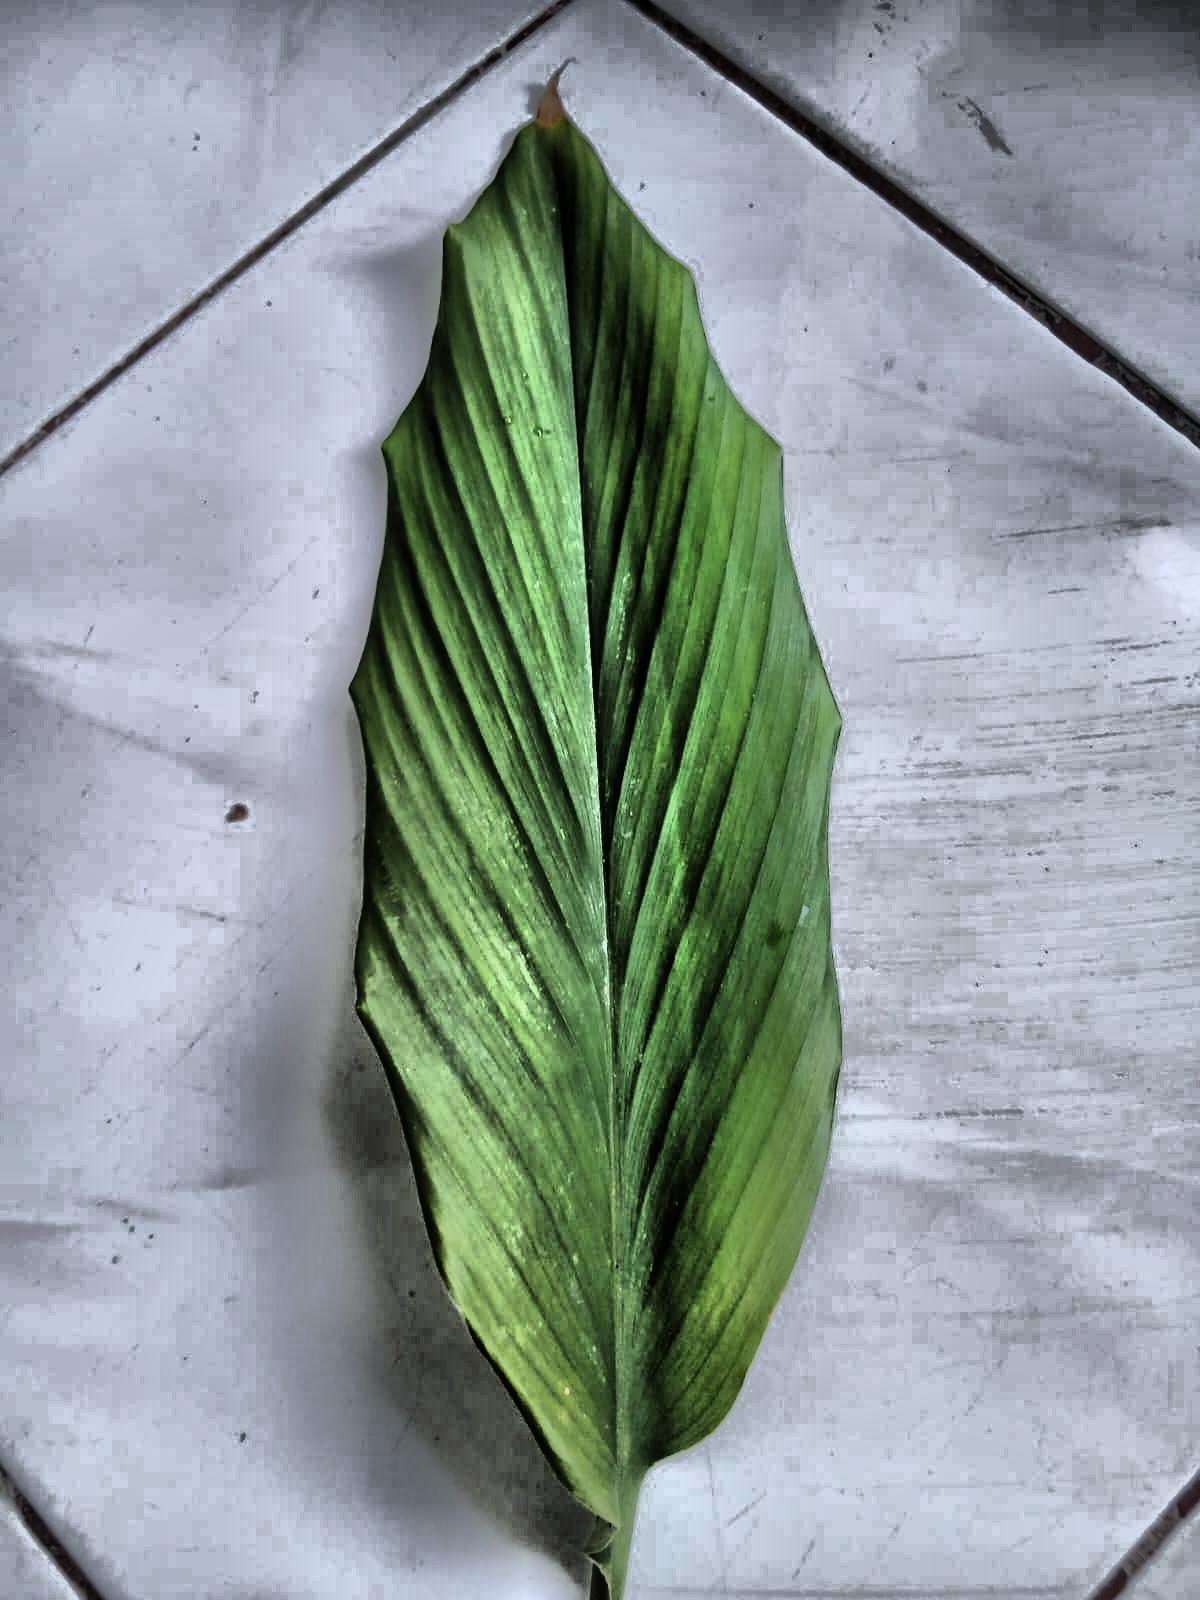daun kunyit: (352, 100, 841, 1599)
